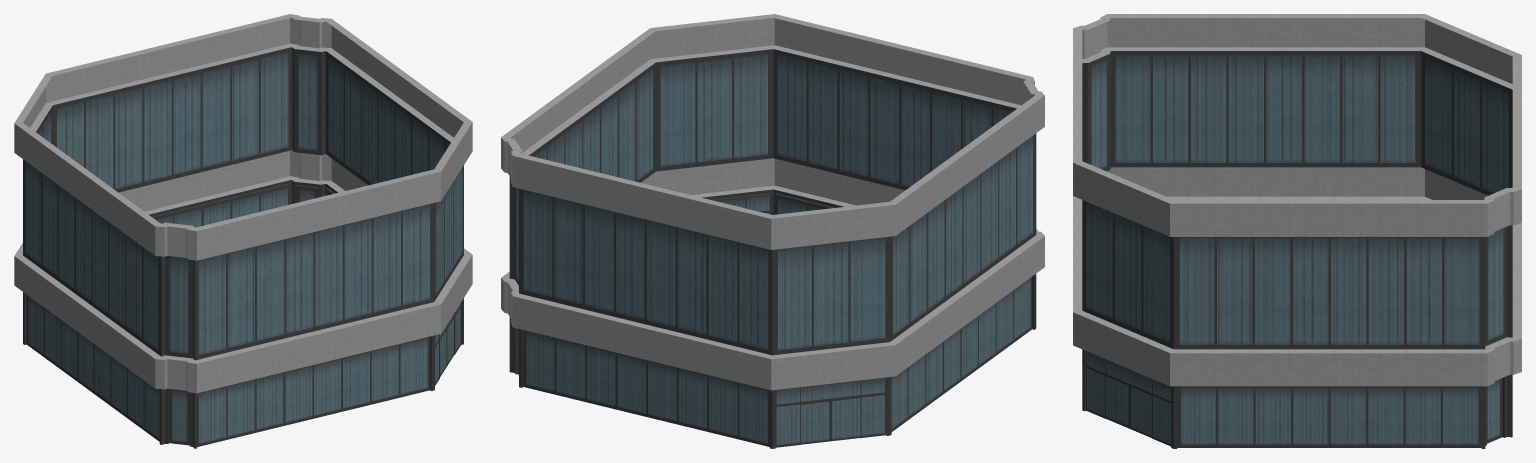
Rendered from jctBld24_C_btm_low.fbx.
3 renders of one model, left to right at view 1: azimuth 30°, elevation 25°; view 2: azimuth 150°, elevation 25°; view 3: azimuth 270°, elevation 25°, orthographic. The views are drawn at different scales.
Visible parts, largest first — view 1: jctBld24_C_btm_low; view 2: jctBld24_C_btm_low; view 3: jctBld24_C_btm_low.
Part boxes in pixels (x1,y1,x2,y2): jctBld24_C_btm_low: (14, 14, 472, 448); jctBld24_C_btm_low: (501, 14, 1044, 448); jctBld24_C_btm_low: (1073, 14, 1521, 448).
Bounding box in the file's own units: 2450 × 1500 × 2450.
